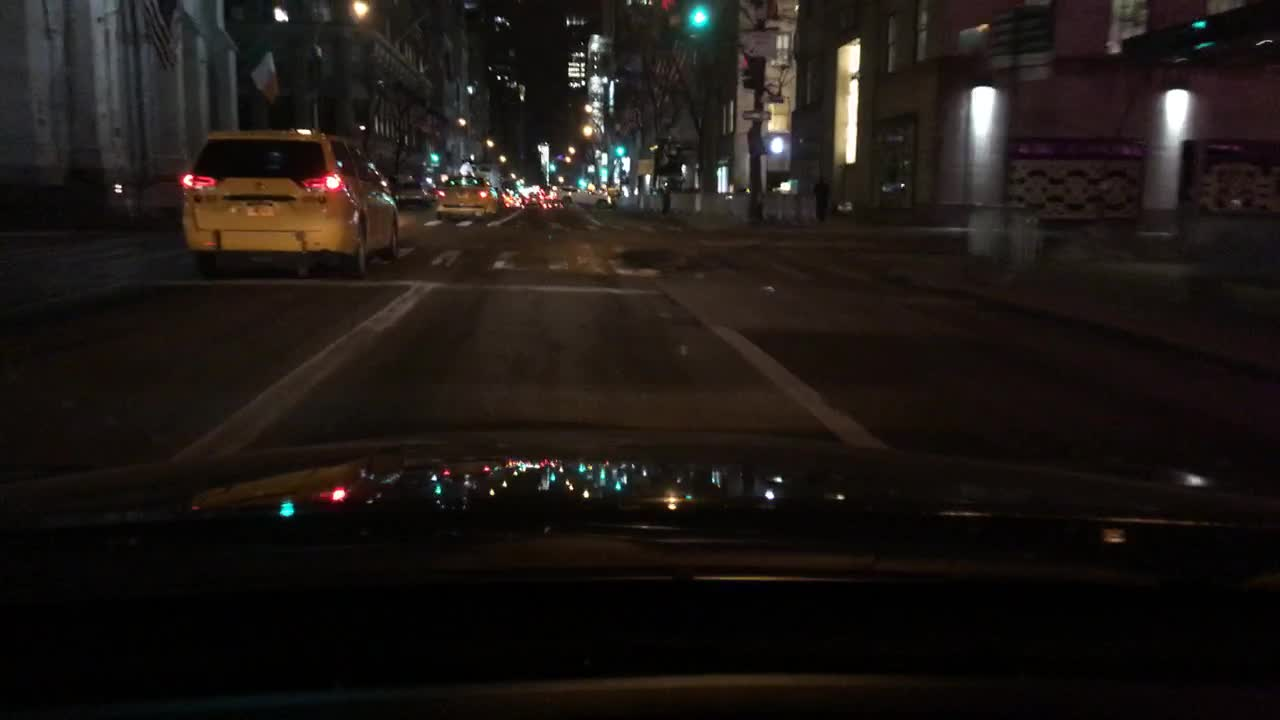car: (177, 124, 402, 272), (434, 175, 499, 221), (559, 186, 611, 207), (396, 180, 433, 206), (500, 192, 523, 209), (539, 191, 557, 208), (525, 192, 539, 205)
person: (811, 172, 831, 222), (659, 186, 673, 215)
traffic light: (741, 53, 755, 89), (691, 4, 708, 28), (765, 134, 786, 153), (614, 144, 626, 158), (431, 151, 438, 164), (600, 167, 608, 177), (578, 178, 585, 187), (550, 164, 555, 172)
traffic sign: (742, 108, 773, 120)
